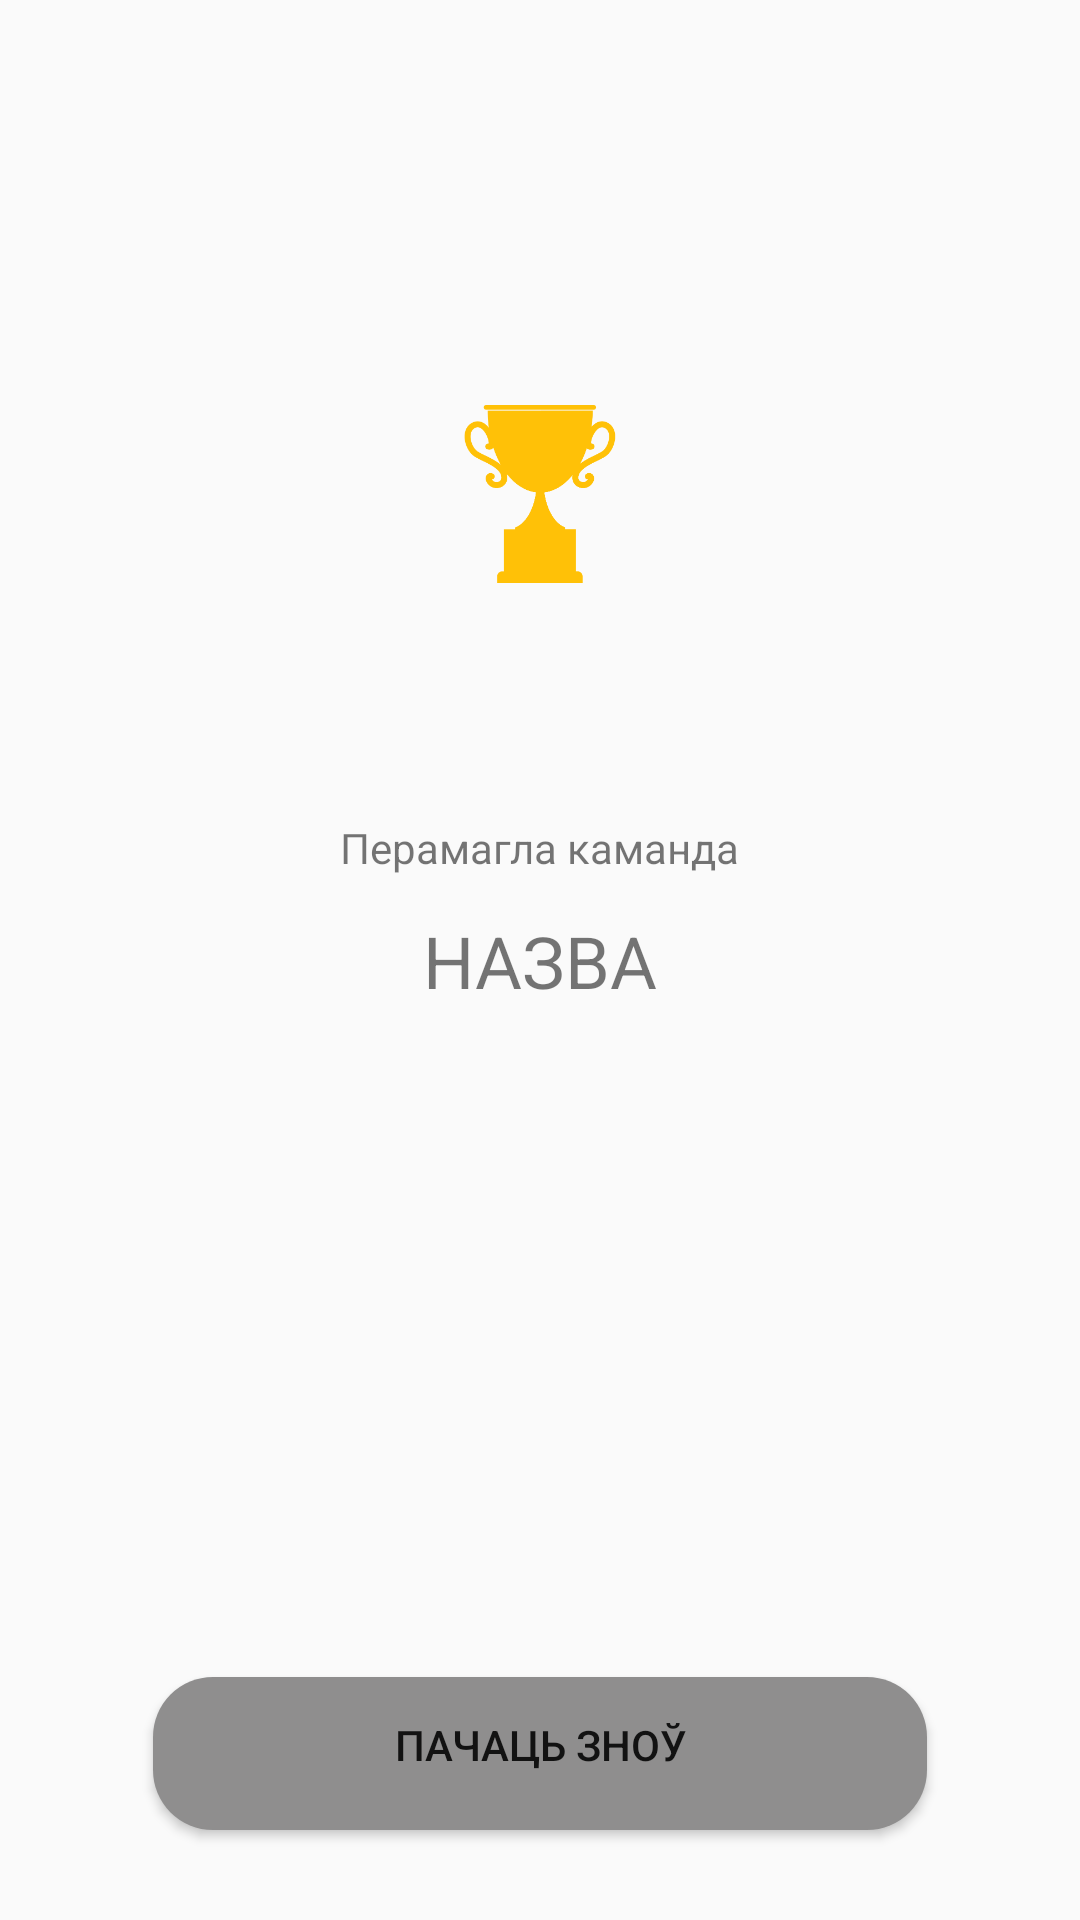

Point at icon controls on the screen. Image size 1080px x 1920px, points as point (x, y).
trophy cup: point (540, 494)
